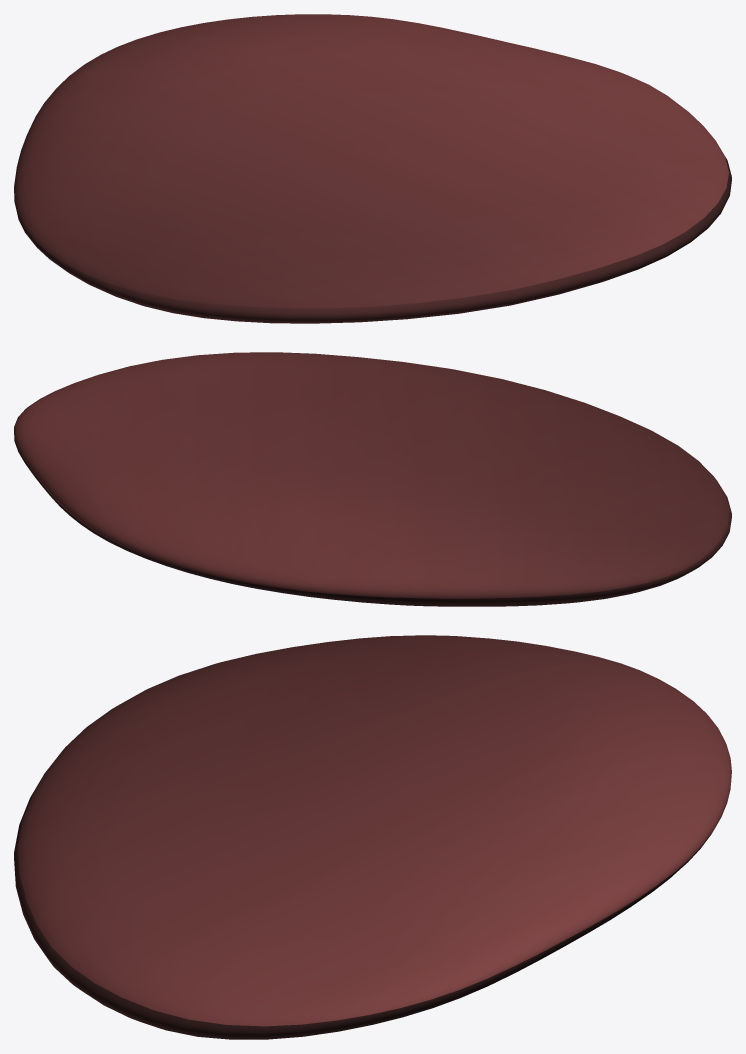
File: common.glb
The picture shows the model from 3 angles, top to bottom: view 1: azimuth 30°, elevation 25°; view 2: azimuth 150°, elevation 25°; view 3: azimuth 270°, elevation 25°; orthographic projection. The views are drawn at different scales.
Parts seen in each view (by area): view 1: c3_tong; view 2: c3_tong; view 3: c3_tong.
Part boxes in pixels (x1,y1,x2,y2): c3_tong: [14, 14, 731, 323]; c3_tong: [14, 352, 731, 606]; c3_tong: [14, 635, 731, 1039].
Bounding box in the file's own units: 0.0778 × 0.0152 × 0.0641.
Materials: 1 (1 with a texture image).
